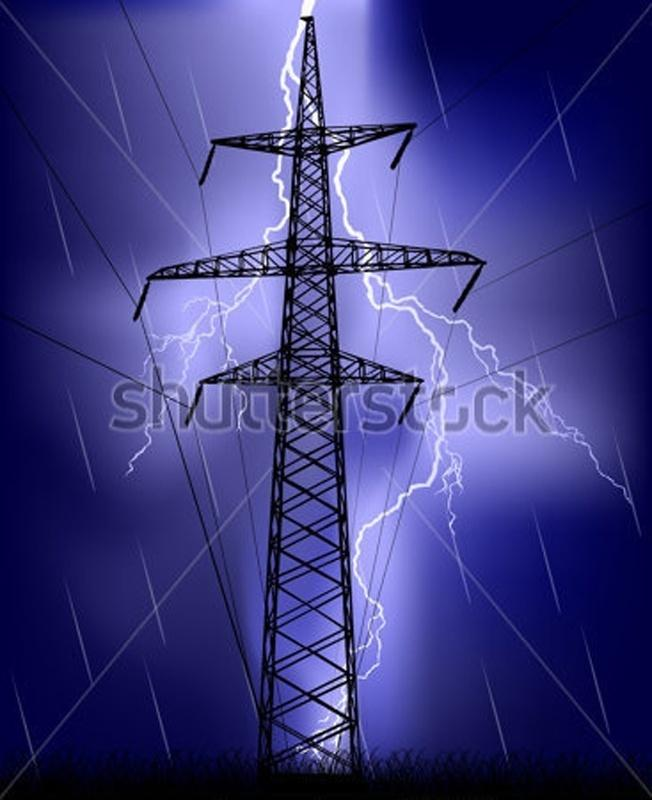power_tower: (168, 13, 485, 770)
